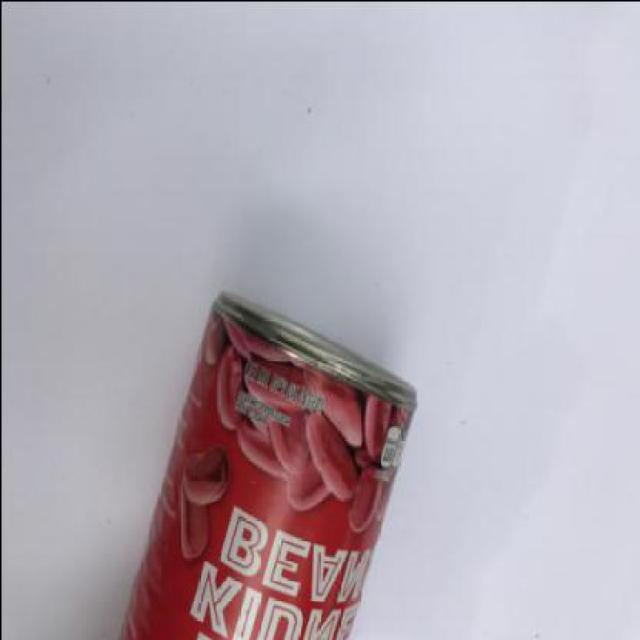METAL: (115, 287, 417, 638)
